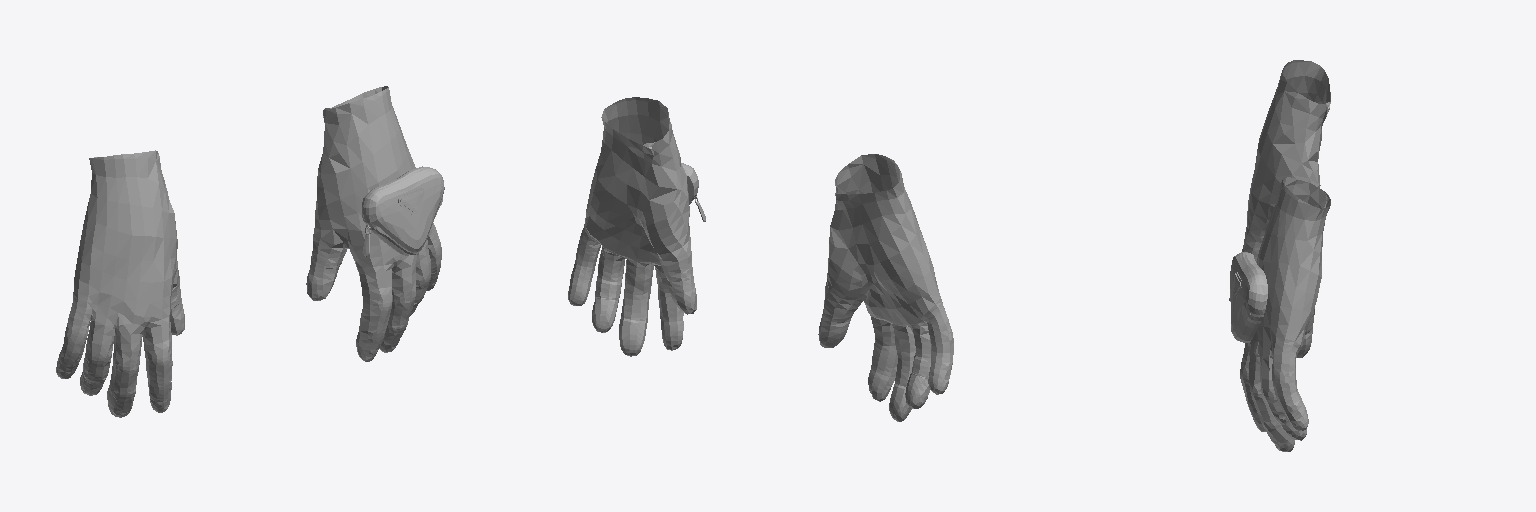
Rendered from Hands.obj.
3 renders of one model, left to right at view 1: azimuth 30°, elevation 25°; view 2: azimuth 150°, elevation 25°; view 3: azimuth 270°, elevation 25°, orthographic.
Visible parts, largest first — view 1: object_0; view 2: object_0; view 3: object_0.
Part boxes in pixels (left/top/right/bottom): object_0: left=56, top=86, right=444, bottom=417; object_0: left=568, top=97, right=953, bottom=421; object_0: left=1229, top=60, right=1330, bottom=451.
Size of the model in its own units: 30.79 by 20.27 by 7.23.